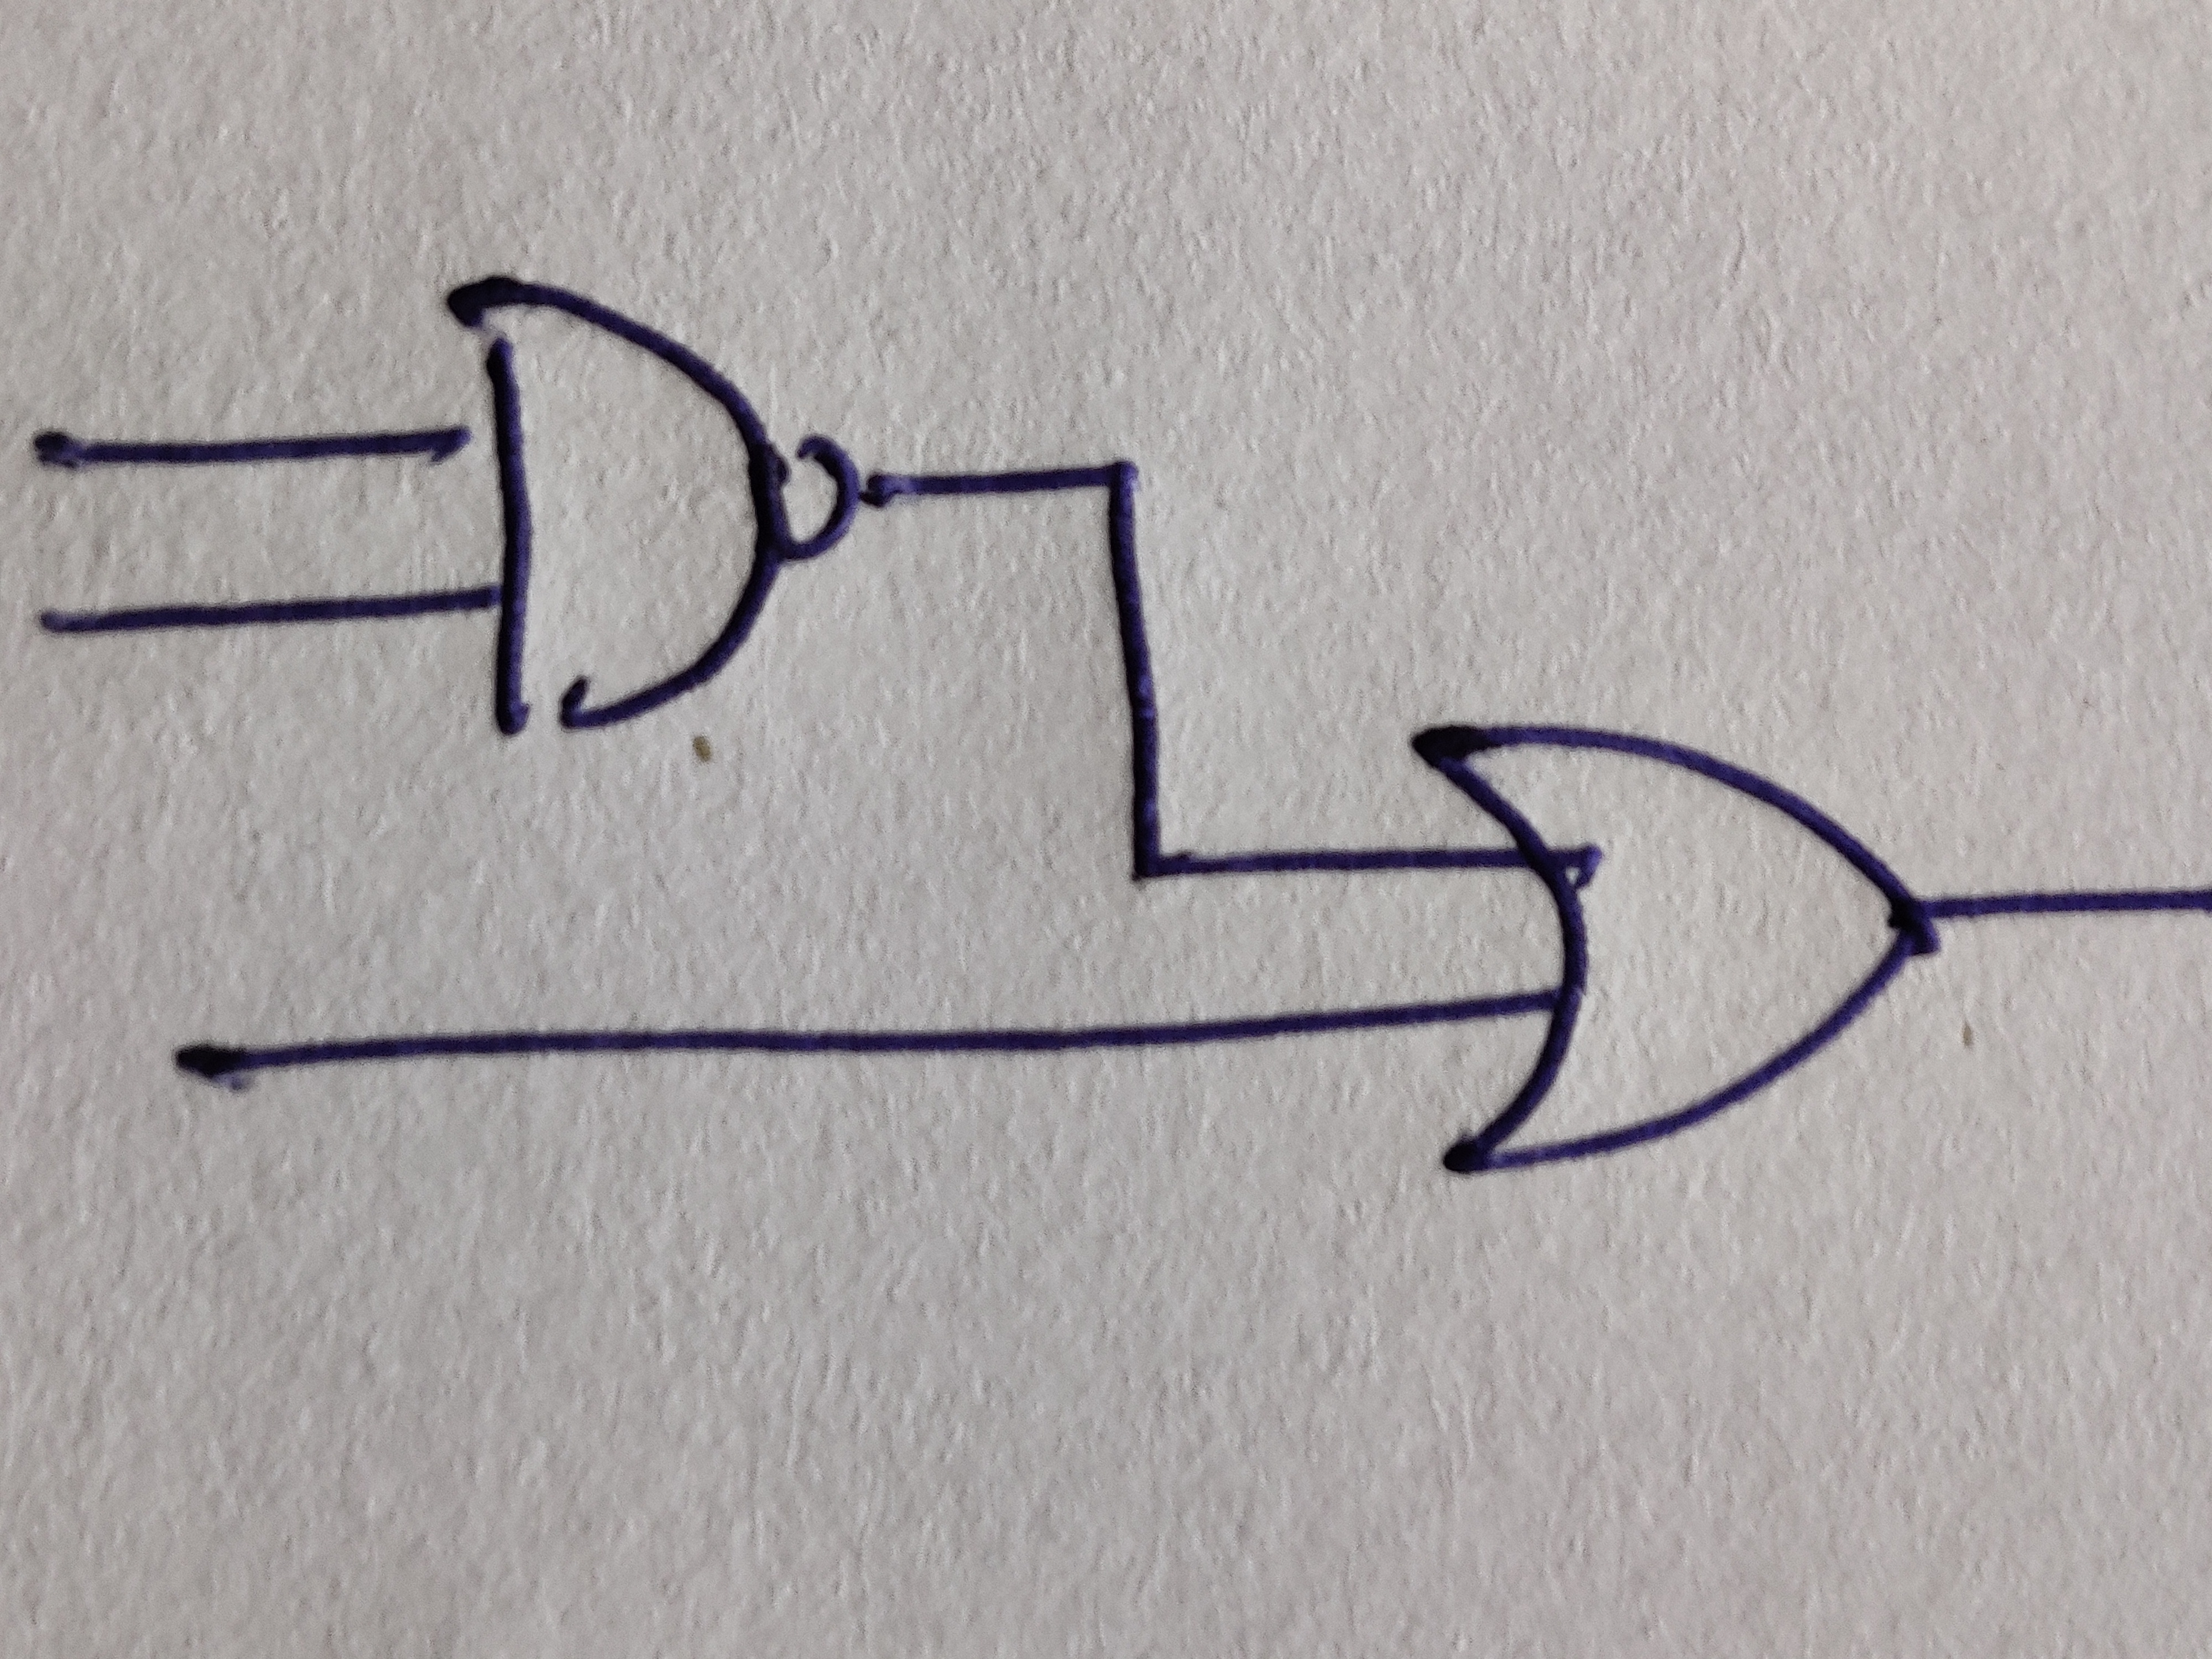and: (448, 274, 782, 735)
not: (761, 437, 860, 561)
or: (1411, 725, 1939, 1176)
